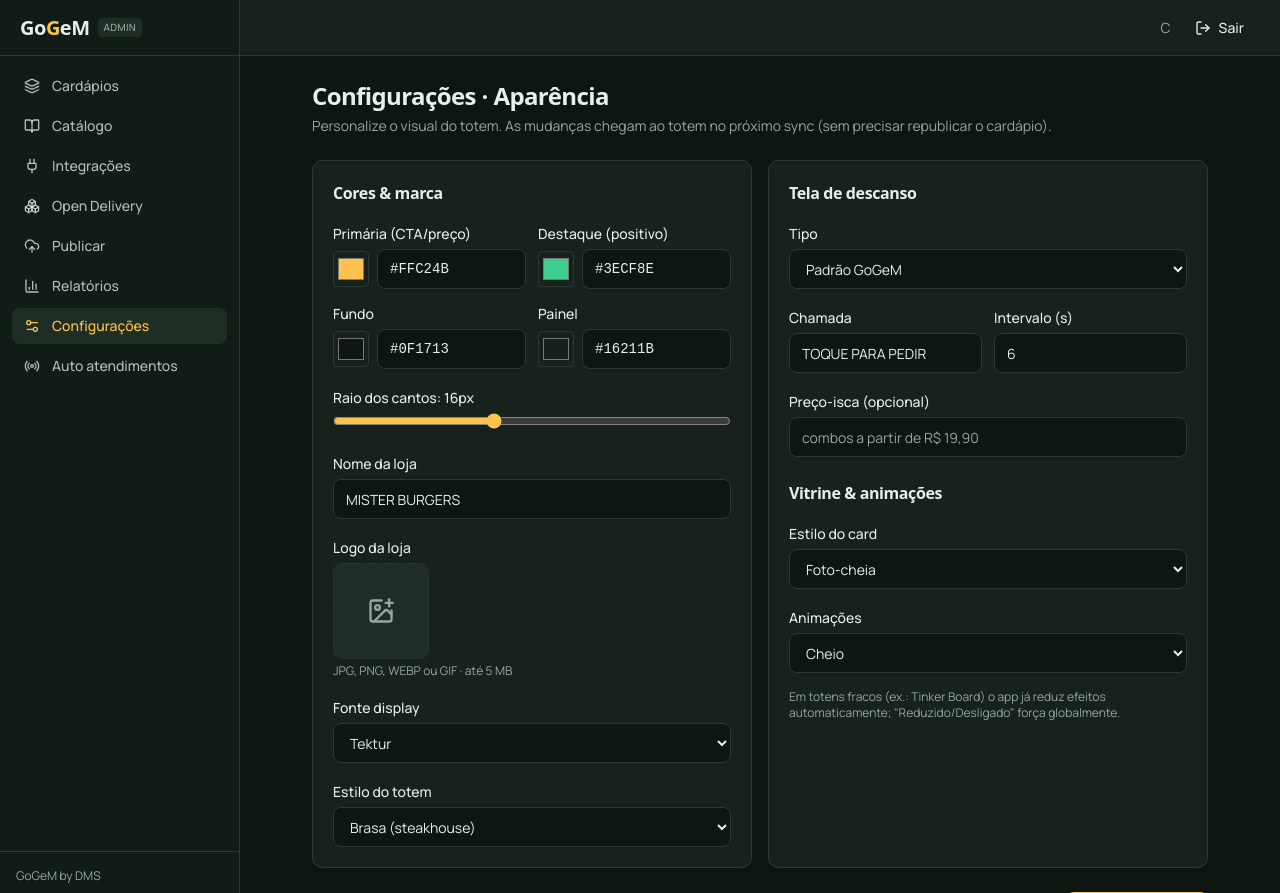
Test: Configurações · Aparência › carrega e salva a aparência (envia o patch com a cor alterada)
In the field labelled "Nome da loja": (532, 499) [333,479,731,519], type "BURGER TOP"
(page scrolled)
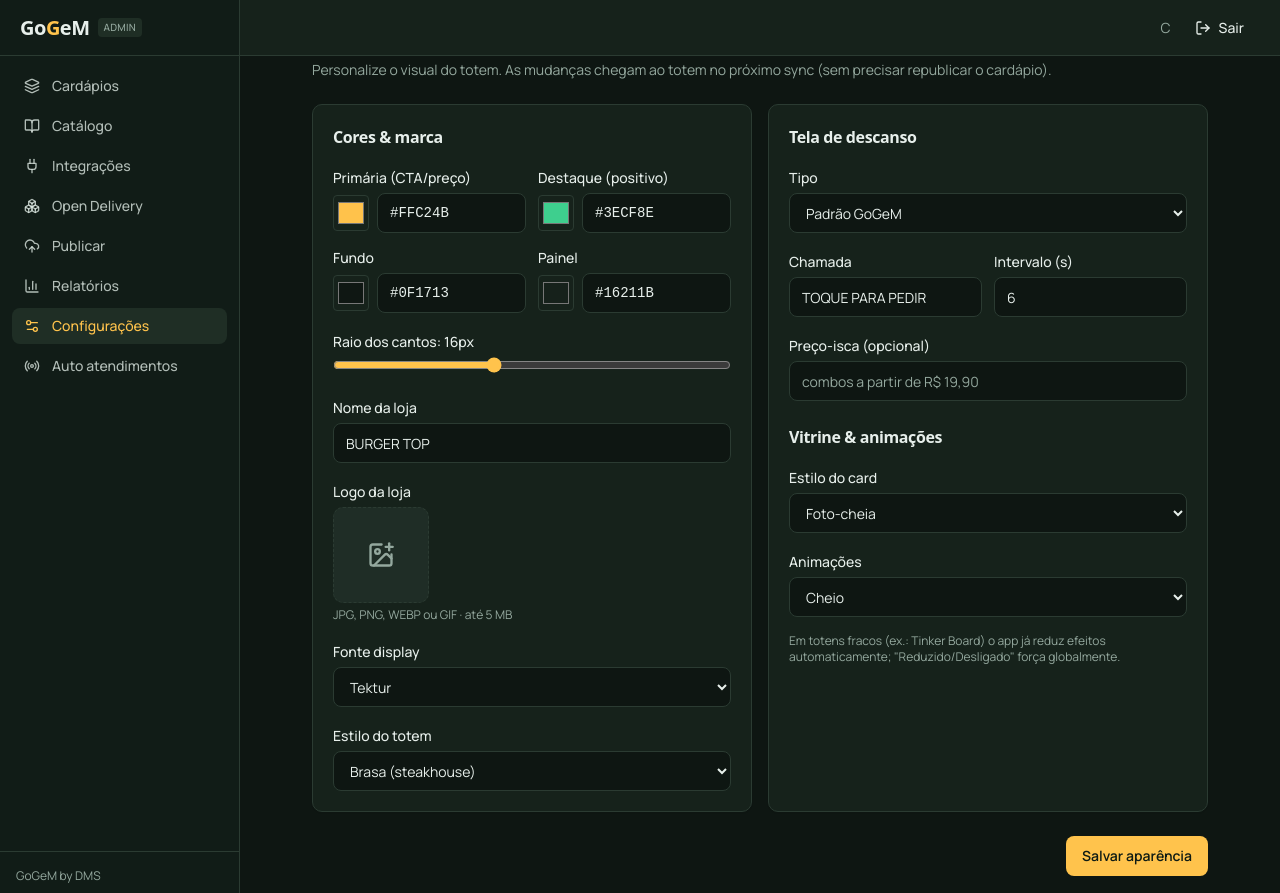
Click the button "Salvar aparência": (1137, 856) [1066,836,1208,876]
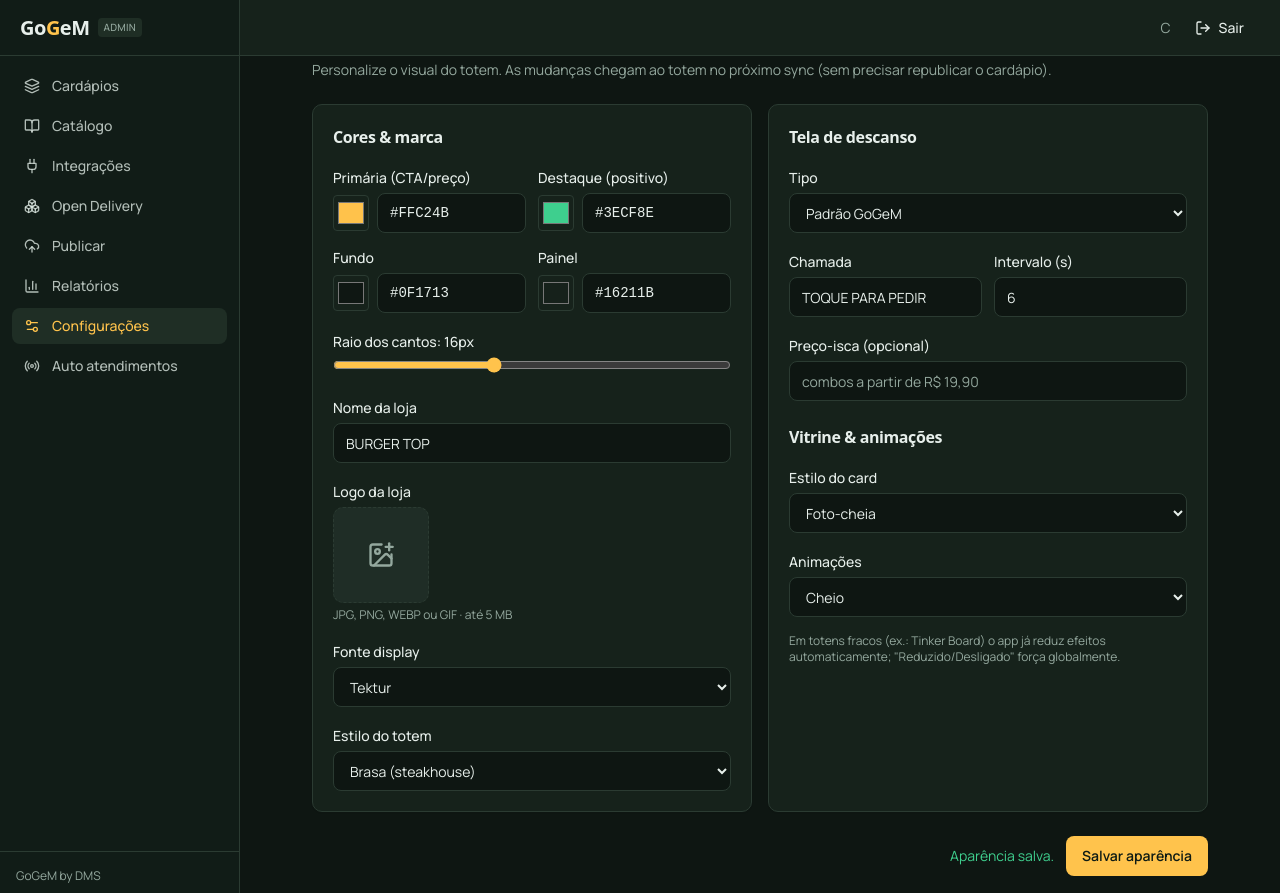
Now the text "Aparência salva." is shown, box [950,846,1054,866]
